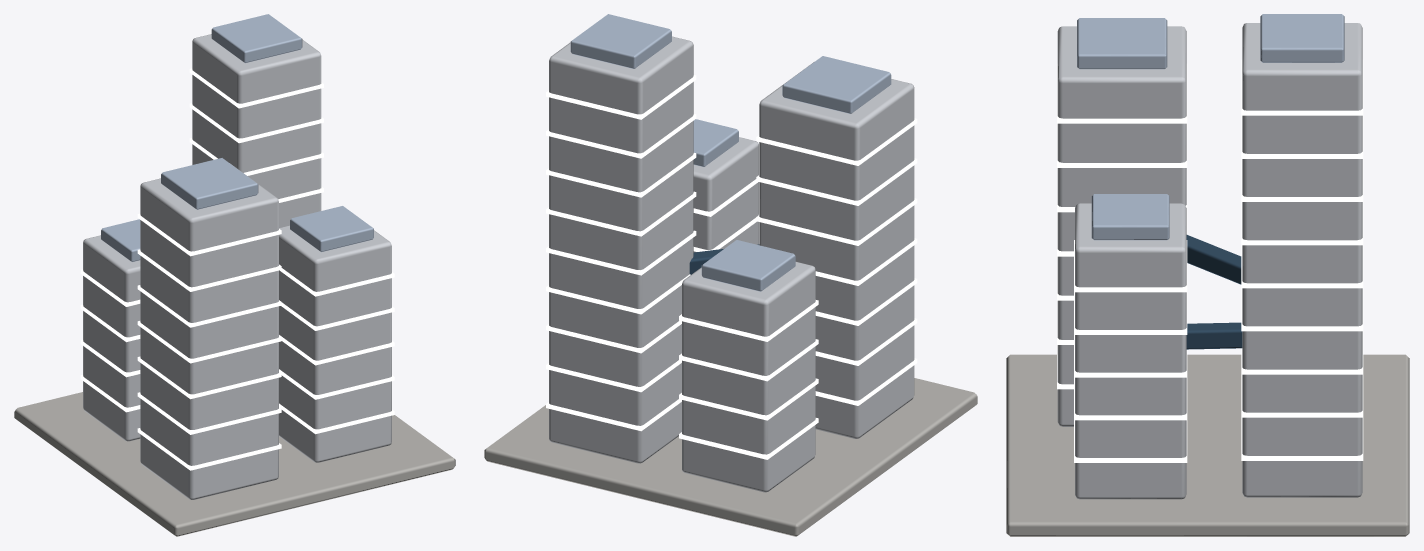
File: metroplex.glb
3 renders of one model, left to right at view 1: azimuth 30°, elevation 25°; view 2: azimuth 150°, elevation 25°; view 3: azimuth 270°, elevation 25°, orthographic. The views are drawn at different scales.
Parts seen in each view (by area): view 1: metroplex; view 2: metroplex; view 3: metroplex.
Boxes of the visible parts, x1,y1,x2,y2 form: metroplex: (14,14,455,536); metroplex: (484,14,977,536); metroplex: (1006,14,1409,536).
Bounding box in the file's own units: 0.94 × 1.18 × 0.94.
